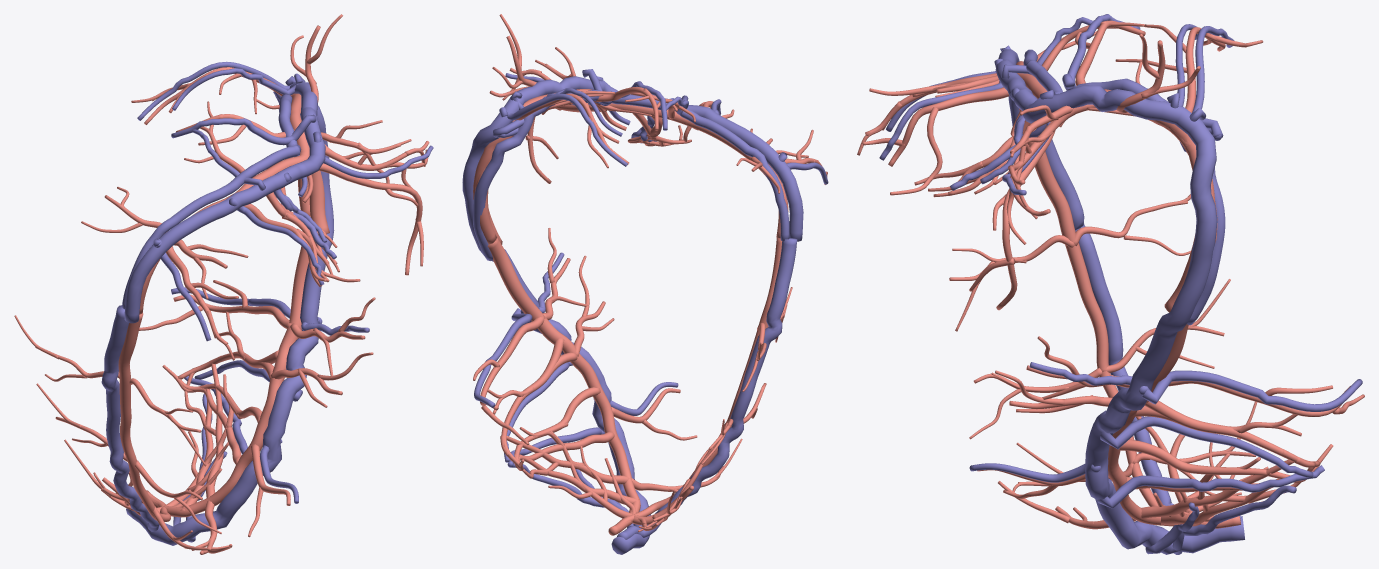
File: vessels_56.glb
3 renders of one model, left to right at view 1: azimuth 30°, elevation 25°; view 2: azimuth 150°, elevation 25°; view 3: azimuth 270°, elevation 25°, orthographic. The views are drawn at different scales.
Visible parts, largest first — view 1: Renderer Node; view 2: Renderer Node; view 3: Renderer Node.
Part boxes in pixels (bbox=[...]): Renderer Node: bbox=[14, 14, 433, 554]; Renderer Node: bbox=[462, 14, 828, 554]; Renderer Node: bbox=[857, 14, 1364, 554].
Size of the model in its own units: 88.71 by 122 by 91.05.
